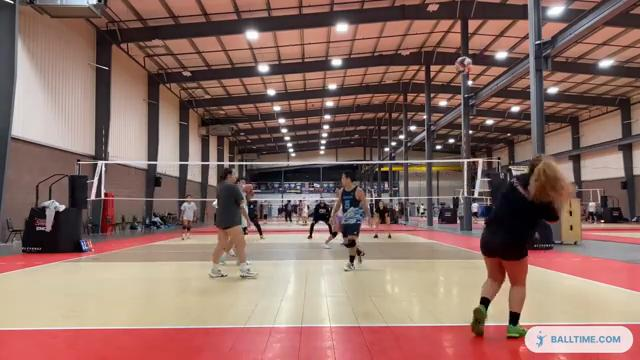Player: (209, 168, 257, 277), (332, 171, 370, 270), (308, 199, 336, 247), (245, 185, 263, 238), (181, 195, 196, 239), (374, 200, 391, 238), (471, 199, 478, 222)
Serve: (465, 151, 571, 343)
ball: (455, 55, 474, 77)
